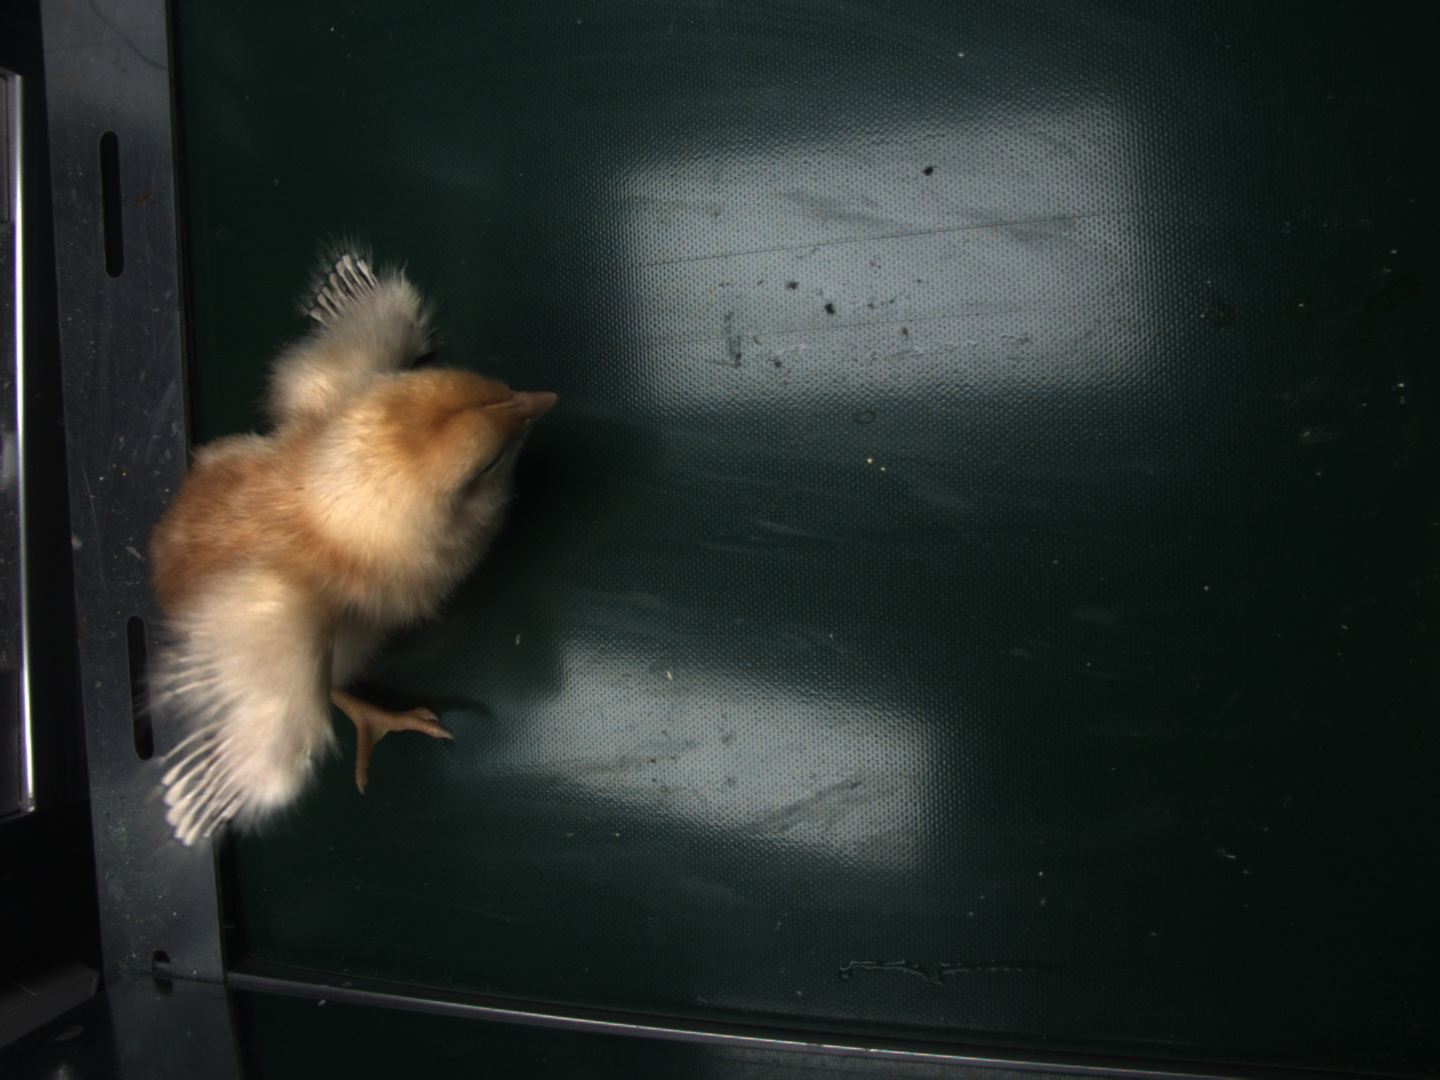female: (316, 261, 382, 330)
